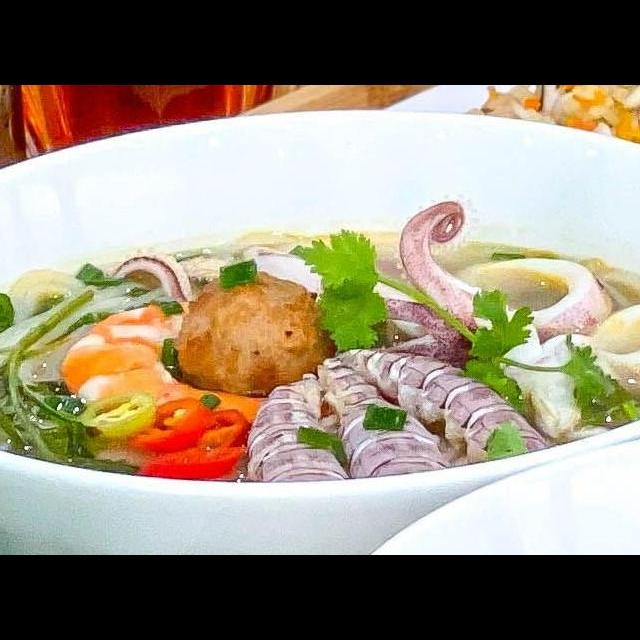muc: (344, 194, 551, 404), (446, 253, 621, 352), (559, 292, 640, 408)
tom: (55, 299, 340, 438)
tom tit: (329, 340, 556, 471), (312, 348, 460, 485), (242, 370, 354, 494)
